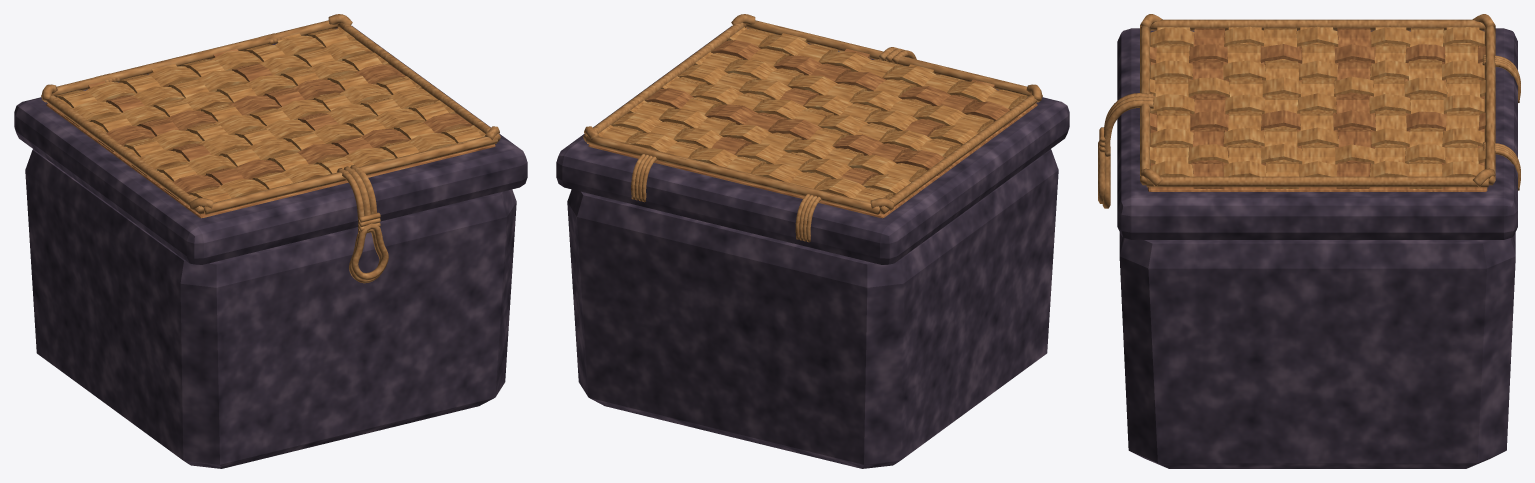
The model's file is Bau_de_Rocha_e_Junco_Jogo_1K.glb.
3 renders of one model, left to right at view 1: azimuth 30°, elevation 25°; view 2: azimuth 150°, elevation 25°; view 3: azimuth 270°, elevation 25°, orthographic. The views are drawn at different scales.
Visible parts, largest first — view 1: Corpo de basalto, Tampa trançada; view 2: Corpo de basalto, Tampa trançada; view 3: Tampa trançada, Corpo de basalto.
Boxes of the visible parts, x1,y1,x2,y2 form: Corpo de basalto: (25, 149, 516, 468); Tampa trançada: (14, 14, 527, 283); Corpo de basalto: (567, 149, 1058, 468); Tampa trançada: (556, 14, 1069, 264); Tampa trançada: (1098, 14, 1520, 239); Corpo de basalto: (1119, 232, 1515, 468).
Size of the model in its own units: 0.95 by 0.7277 by 0.9395.
Materials: 1 (1 with a texture image).
